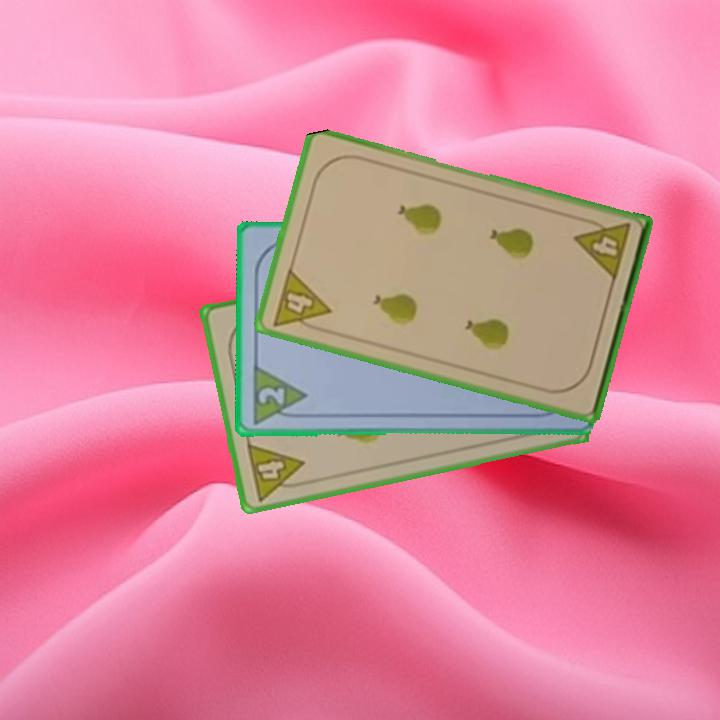2p: (248, 363, 309, 428)
4p: (268, 265, 334, 336), (243, 439, 311, 504), (571, 214, 633, 284)
